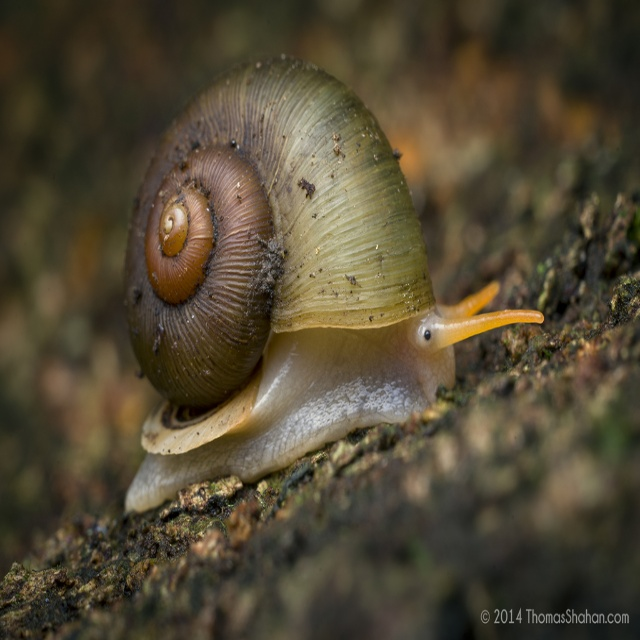Snail: (125, 54, 544, 514)
